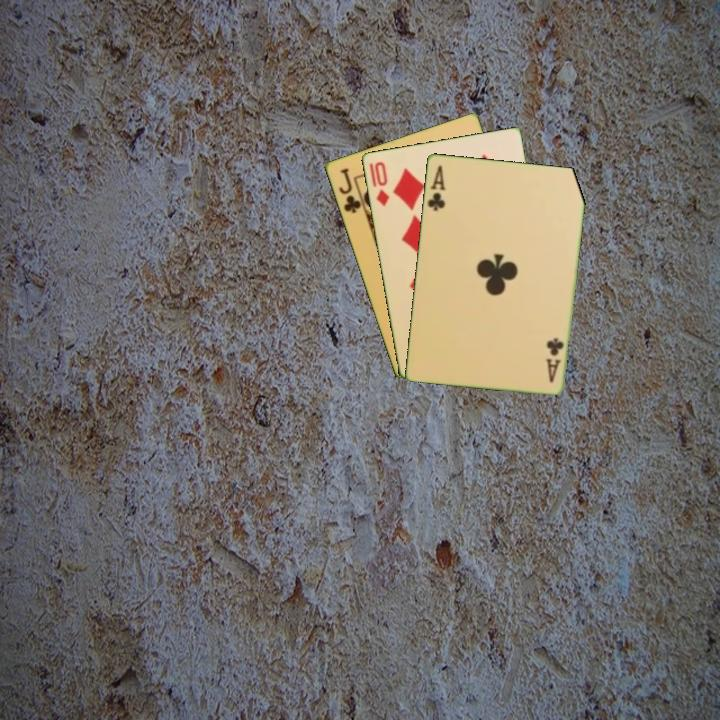10d: (371, 158, 392, 209)
Ac: (423, 161, 448, 213), (542, 334, 566, 386)
Jc: (335, 164, 364, 216)
